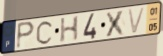4: (82, 12, 98, 42)
C: (35, 19, 55, 46)
H: (59, 14, 81, 44)
P: (15, 20, 36, 51)
V: (126, 5, 147, 36)
X: (104, 9, 127, 39)
